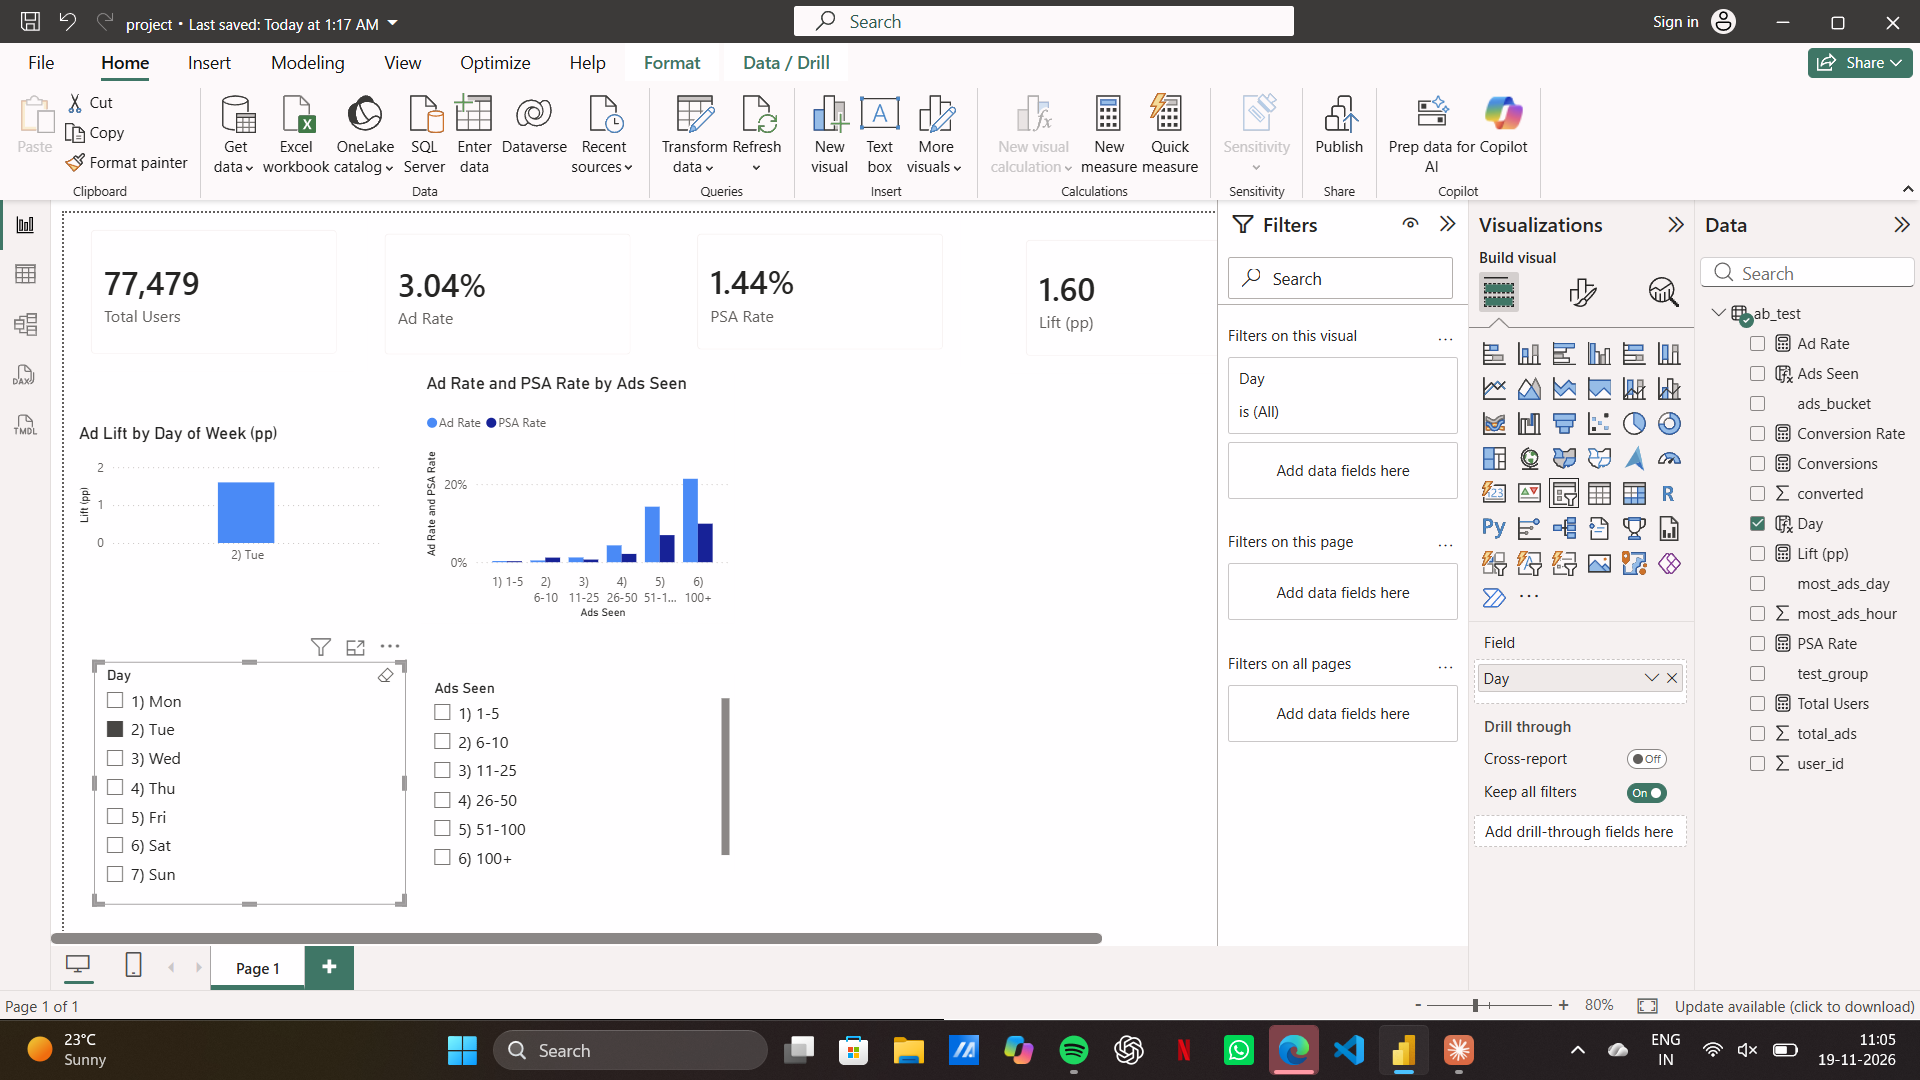

The page's visual inventory and layout, read from the dashboard file:
{"tool":"powerbi","page":{"name":"Page 1","canvas":[1280,720],"ordinal":0},"visuals":[{"type":"cardVisual","fields":{"Data":["ab_test.Total Users"]},"box":[10,0,280,158.8],"z":0},{"type":"cardVisual","fields":{"Data":["ab_test.Ad Rate"]},"box":[303.3,4.1,280,155],"z":1000},{"type":"cardVisual","fields":{"Data":["ab_test.PSA Rate"]},"box":[616.1,4.1,280,150],"z":2000},{"type":"cardVisual","fields":{"Data":["ab_test.Lift (pp)"]},"box":[945.5,9.6,280,150],"z":3000},{"type":"clusteredColumnChart","title":"Ad Rate and PSA Rate by Ads Seen","fields":{"Category":["ab_test.Ads Seen"],"Y":["ab_test.Ad Rate","ab_test.PSA Rate"]},"box":[357.5,160,312.5,250],"z":4000},{"type":"clusteredColumnChart","title":"Ad Lift by Day of Week (pp)","fields":{"Category":["ab_test.Day"],"Y":["ab_test.Lift (pp)"]},"box":[9.6,209.9,313,150],"z":5000},{"type":"slicer","fields":{"Values":["ab_test.Day"]},"box":[30,448.8,312.9,244.3],"z":5001},{"type":"slicer","fields":{"Values":["ab_test.Ads Seen"]},"box":[357.5,461.2,312.9,197.6],"z":5002}]}

Visuals, with their boxes on the page's 1280x720 design canvas (x1, y1, x2, y2). These are canvas units, not pixel positions in the 1920x1080 screenshot, which may show the page scaled, cropped or inside an application window:
cardVisual - ab_test.Total Users: (x1=10, y1=0, x2=290, y2=159)
cardVisual - ab_test.Ad Rate: (x1=303, y1=4, x2=583, y2=159)
cardVisual - ab_test.PSA Rate: (x1=616, y1=4, x2=896, y2=154)
cardVisual - ab_test.Lift (pp): (x1=946, y1=10, x2=1226, y2=160)
"Ad Rate and PSA Rate by Ads Seen" clusteredColumnChart: (x1=358, y1=160, x2=670, y2=410)
"Ad Lift by Day of Week (pp)" clusteredColumnChart: (x1=10, y1=210, x2=323, y2=360)
slicer - ab_test.Day: (x1=30, y1=449, x2=343, y2=693)
slicer - ab_test.Ads Seen: (x1=358, y1=461, x2=670, y2=659)
